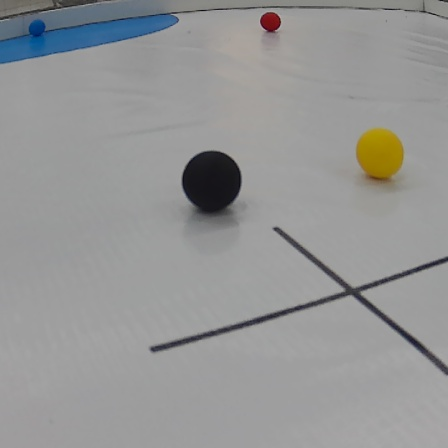black: (183, 151, 245, 214)
blue: (27, 21, 51, 39)
blue_base: (0, 9, 181, 62)
red: (257, 9, 285, 35)
yellow: (355, 126, 404, 180)
